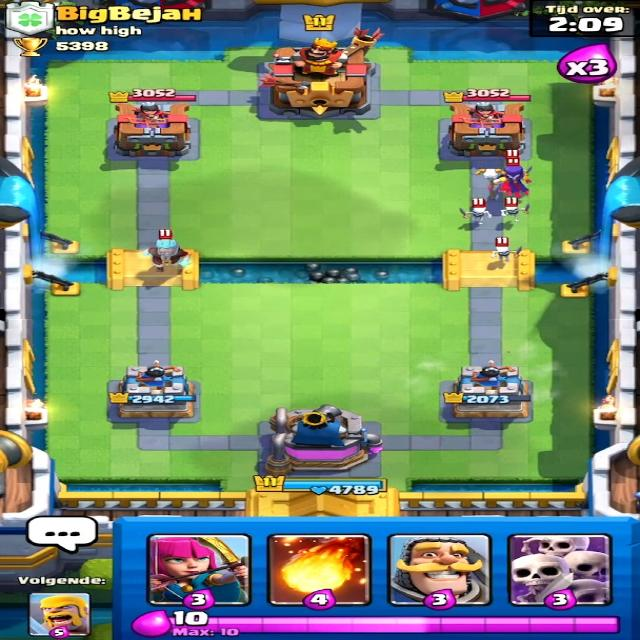Enemy_Ice_Wizard_Troop: (138, 232, 198, 268)
Enemy_Skeleton_Troop: (500, 202, 530, 222), (488, 246, 524, 262), (459, 206, 488, 225)
Enemy_Witch_Troop: (477, 162, 539, 202)
Fireball_Card: (268, 532, 367, 603)
